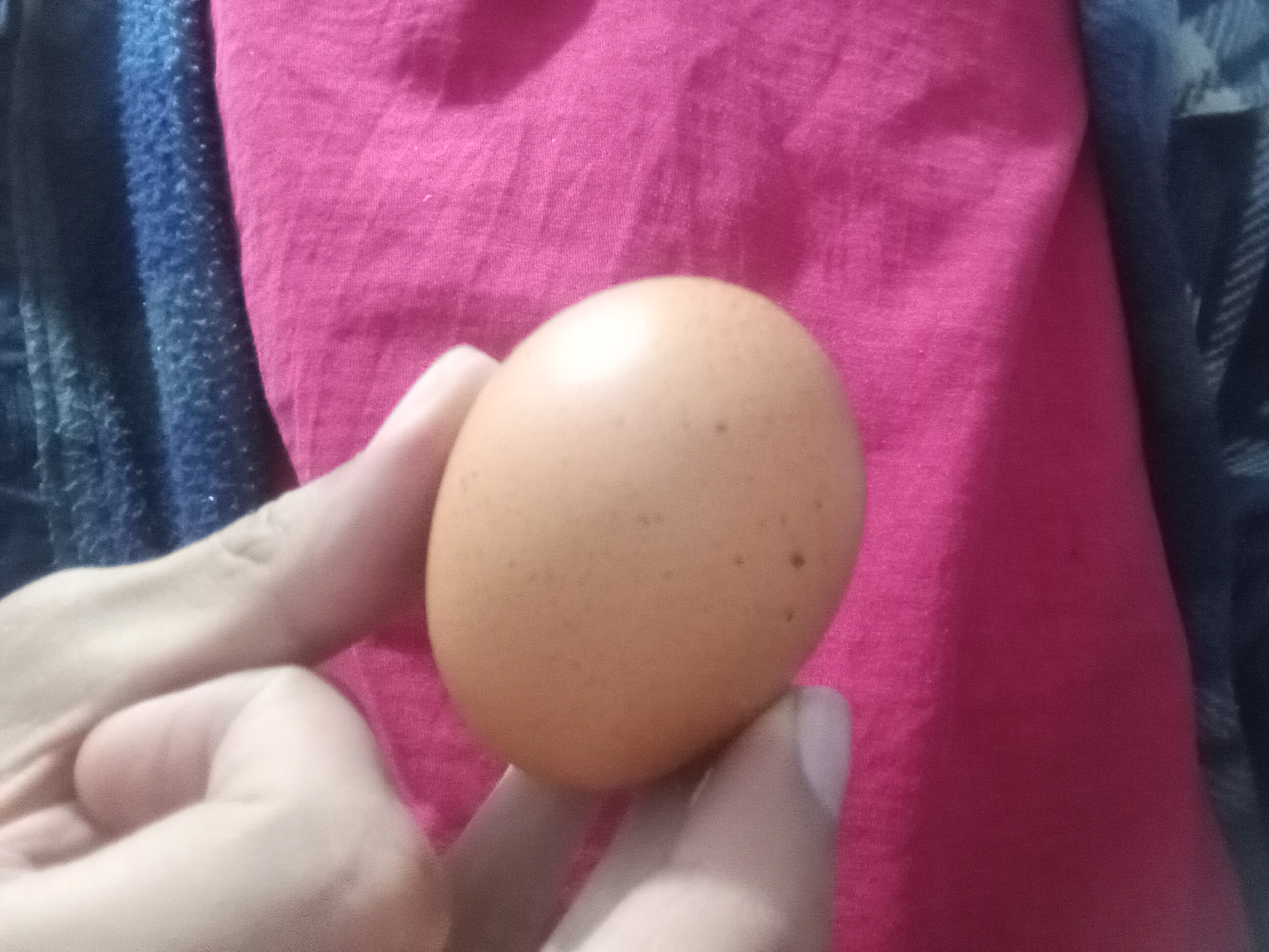Organico: (425, 275, 868, 795)
